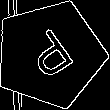P_SE: (20, 23, 80, 85)
